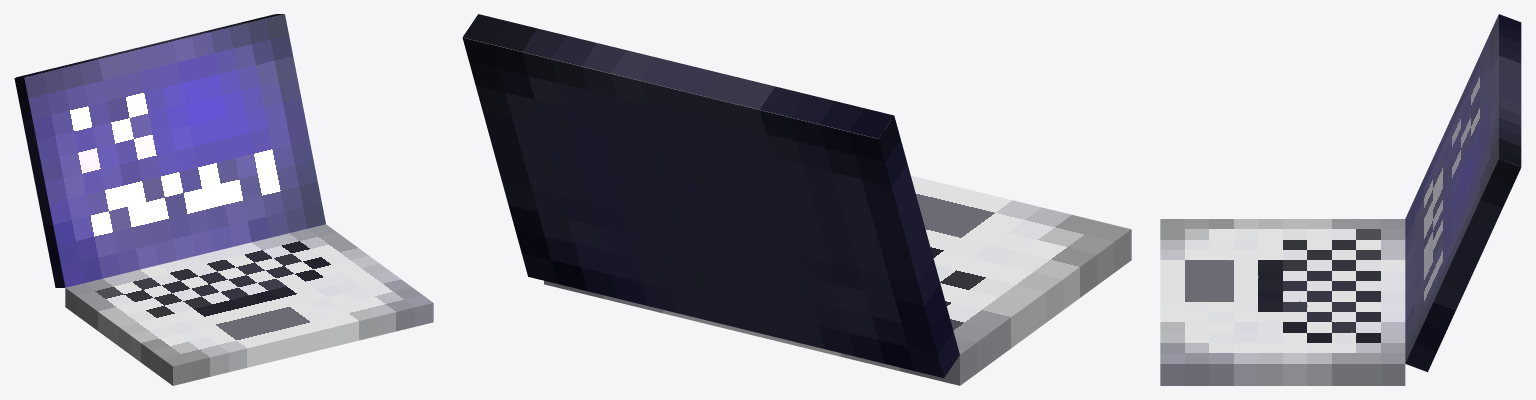
File: Laptop-transformed1.glb
3 renders of one model, left to right at view 1: azimuth 30°, elevation 25°; view 2: azimuth 150°, elevation 25°; view 3: azimuth 270°, elevation 25°, orthographic. The views are drawn at different scales.
Parts seen in each view (by area): view 1: Object_4, Object_8, Object_5; view 2: Object_5, Object_8; view 3: Object_8, Object_4, Object_5.
Part boxes in pixels (left/top/right/bottom): Object_4: left=24, top=14, right=325, bottom=287; Object_8: left=65, top=224, right=433, bottom=385; Object_5: left=14, top=14, right=283, bottom=287; Object_5: left=462, top=14, right=959, bottom=378; Object_8: left=544, top=175, right=1131, bottom=385; Object_8: left=1160, top=219, right=1405, bottom=385; Object_4: left=1405, top=14, right=1498, bottom=362; Object_5: left=1405, top=14, right=1521, bottom=372.
Size of the model in its own units: 0.875 by 0.6402 by 0.922.
Materials: 4 (4 with a texture image).
